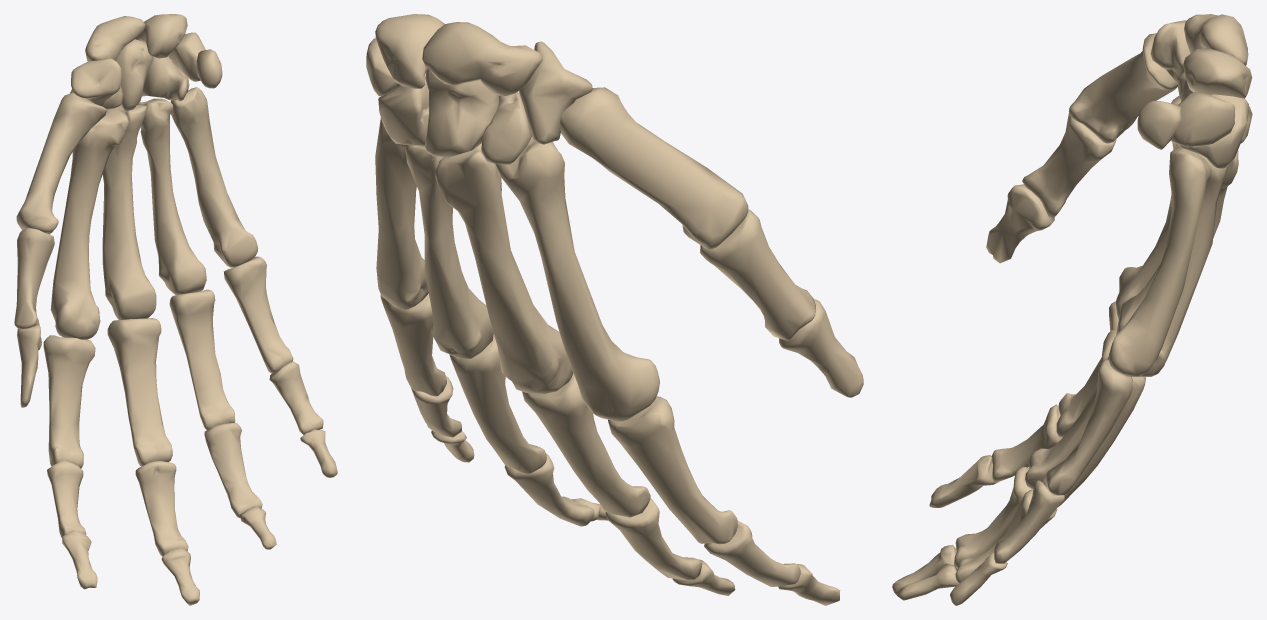
The model's file is hand.glb.
The picture shows the model from 3 angles, left to right: view 1: azimuth 30°, elevation 25°; view 2: azimuth 150°, elevation 25°; view 3: azimuth 270°, elevation 25°; orthographic projection. The views are drawn at different scales.
Parts seen in each view (by area): view 1: carpals, metacarpal_index, metacarpal_middle, metacarpal_little, metacarpal_ring, phalanx_middle_proximal, metacarpal_thumb, phalanx_index_proximal, phalanx_ring_proximal, phalanx_little_proximal, phalanx_middle_middle, phalanx_ring_middle (+8 smaller); view 2: carpals, metacarpal_index, metacarpal_middle, metacarpal_thumb, metacarpal_ring, phalanx_index_proximal, metacarpal_little, phalanx_middle_proximal, phalanx_thumb_proximal, phalanx_ring_proximal, phalanx_little_proximal, phalanx_thumb_distal (+7 smaller); view 3: carpals, metacarpal_little, metacarpal_thumb, phalanx_thumb_proximal, phalanx_little_proximal, metacarpal_ring, phalanx_thumb_distal, phalanx_middle_proximal, phalanx_little_middle, phalanx_index_middle, phalanx_middle_middle, metacarpal_index (+8 smaller).
Boxes of the visible parts, <box> form: carpals: <box>70,14,222,110</box>; metacarpal_index: <box>50,108,128,339</box>; metacarpal_middle: <box>102,104,156,319</box>; metacarpal_little: <box>170,87,257,267</box>; metacarpal_ring: <box>137,98,206,295</box>; phalanx_middle_proximal: <box>107,318,172,466</box>; metacarpal_thumb: <box>16,92,106,233</box>; phalanx_index_proximal: <box>43,335,95,468</box>; phalanx_ring_proximal: <box>169,289,235,430</box>; phalanx_little_proximal: <box>224,256,293,373</box>; phalanx_middle_middle: <box>135,461,188,556</box>; phalanx_ring_middle: <box>204,423,262,518</box>; carpals: <box>366,14,592,164</box>; metacarpal_index: <box>495,136,659,421</box>; metacarpal_middle: <box>435,143,573,393</box>; metacarpal_thumb: <box>560,87,748,249</box>; metacarpal_ring: <box>405,144,493,358</box>; phalanx_index_proximal: <box>608,396,737,544</box>; metacarpal_little: <box>375,118,428,310</box>; phalanx_middle_proximal: <box>522,373,650,517</box>; phalanx_thumb_proximal: <box>700,209,815,340</box>; phalanx_ring_proximal: <box>449,334,546,473</box>; phalanx_little_proximal: <box>380,293,446,396</box>; phalanx_thumb_distal: <box>779,299,863,397</box>; carpals: <box>1137,14,1252,168</box>; metacarpal_little: <box>1108,147,1211,376</box>; metacarpal_thumb: <box>1069,33,1177,143</box>; phalanx_thumb_proximal: <box>1022,113,1116,218</box>; phalanx_little_proximal: <box>1045,360,1132,495</box>; metacarpal_ring: <box>1138,154,1228,376</box>; phalanx_thumb_distal: <box>986,184,1054,263</box>; phalanx_middle_proximal: <box>1025,330,1116,489</box>; phalanx_little_middle: <box>994,480,1064,563</box>; phalanx_index_middle: <box>991,404,1061,482</box>; phalanx_middle_middle: <box>954,466,1032,567</box>; metacarpal_index: <box>1116,96,1180,319</box>.
Bounding box in the file's own units: 0.105 × 0.1587 × 0.0849.
